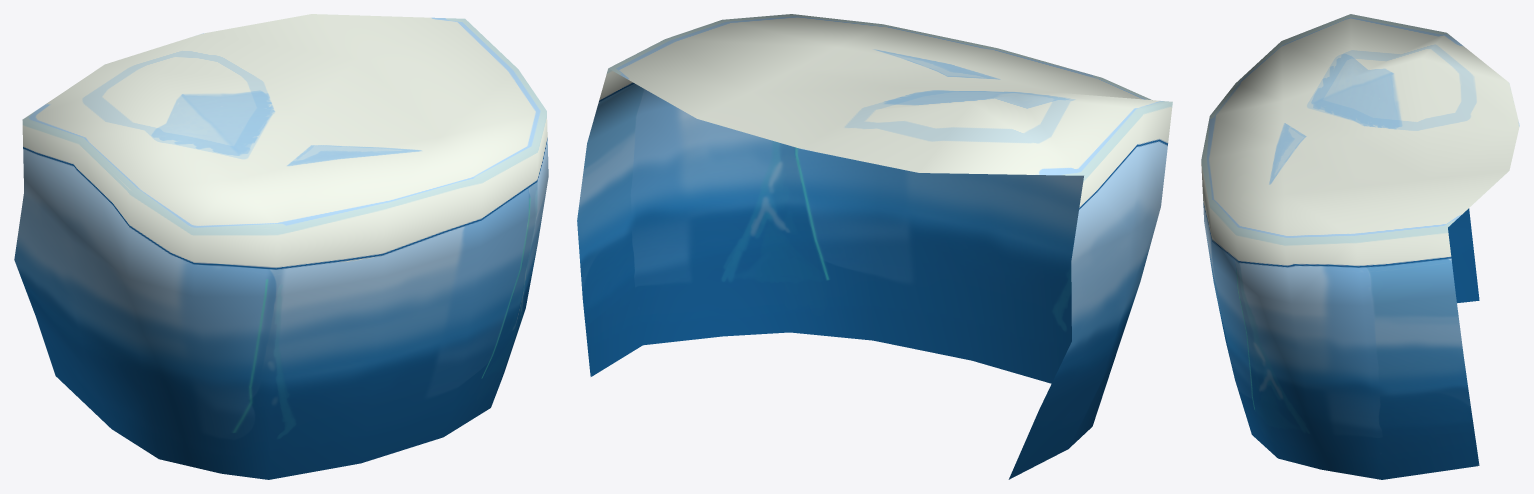
Rendered from icerock.fbx.
3 views of the same model, side by side, from view 1: azimuth 30°, elevation 25°; view 2: azimuth 150°, elevation 25°; view 3: azimuth 270°, elevation 25° (orthographic). The views are drawn at different scales.
Parts seen in each view (by area): view 1: pCube1; view 2: pCube1; view 3: pCube1.
Boxes of the visible parts, x1,y1,x2,y2 form: pCube1: [14, 14, 548, 479]; pCube1: [577, 14, 1172, 479]; pCube1: [1201, 14, 1519, 479].
Bounding box in the file's own units: 1.7 × 1.19 × 1.16.
1 material, 1 textured.
